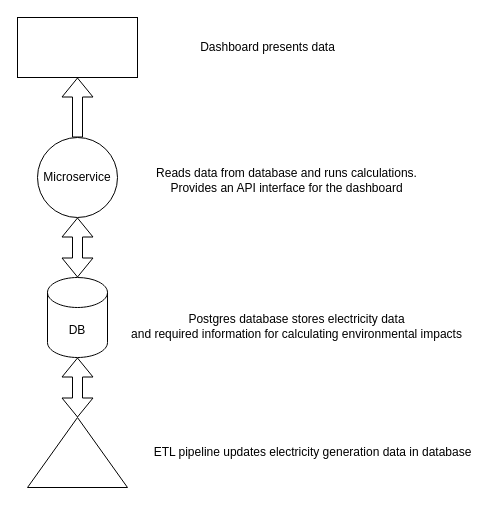
Image size: 500x526. Some labels were removed from this diagram. The shapes that lost their labels are listed below. From the top down, each one's centre as x and y in pixels, then its label:
At [77,47]: "Dashboard".
At [77,452]: "ETL Pipeline".
